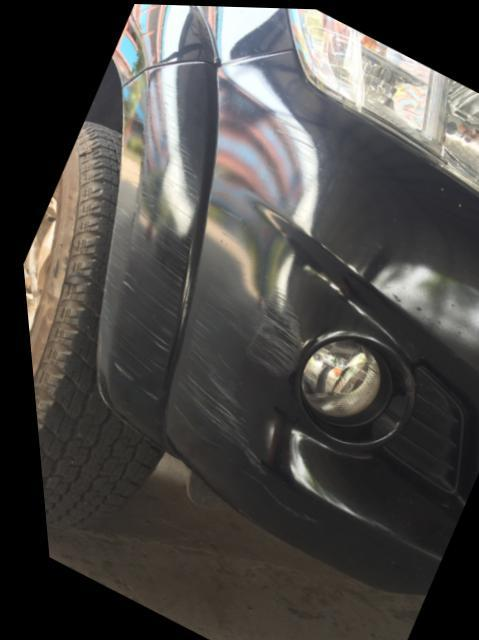rub: (166, 198, 298, 515), (92, 81, 203, 398)
